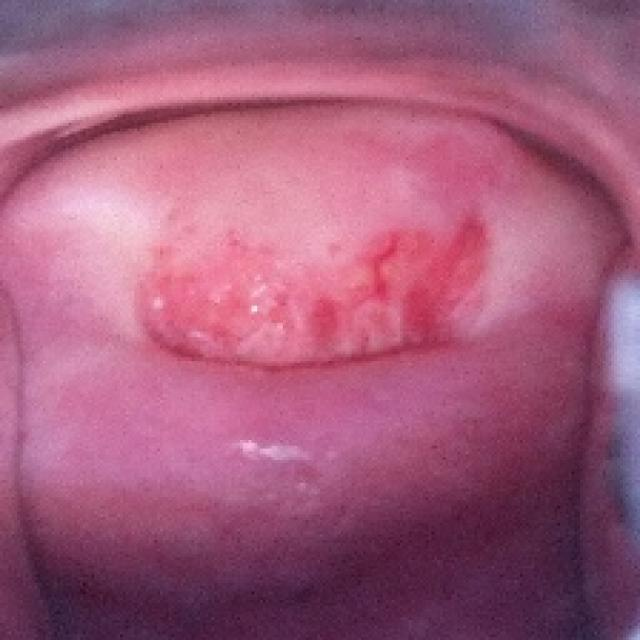type-2: (13, 102, 640, 640)
